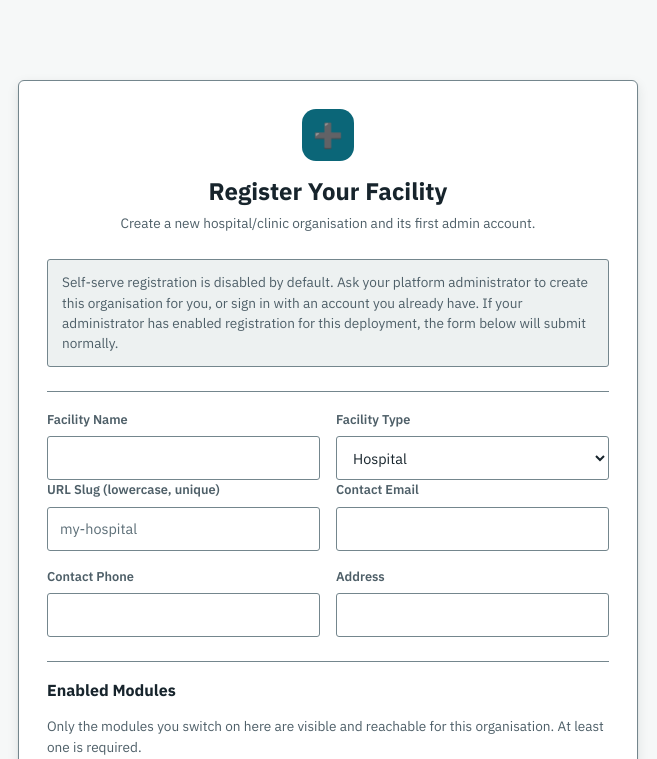
Test case: Onboarding page when self-serve registration is closed › shows an actionable message rather than a raw 401 when submitted anyway
The image size is (657, 759).
Type "Rogue Hospital" into the field labelled "Facility Name" at x=184, y=458, box top-left (47, 436), bottom-right (320, 480)
Type "rogue" into the field labelled "URL Slug (lowercase, unique)" at x=184, y=529, box top-left (47, 507), bottom-right (320, 551)
Type "c@x.test" into the field labelled "Contact Email" at x=472, y=529, box top-left (336, 507), bottom-right (609, 551)
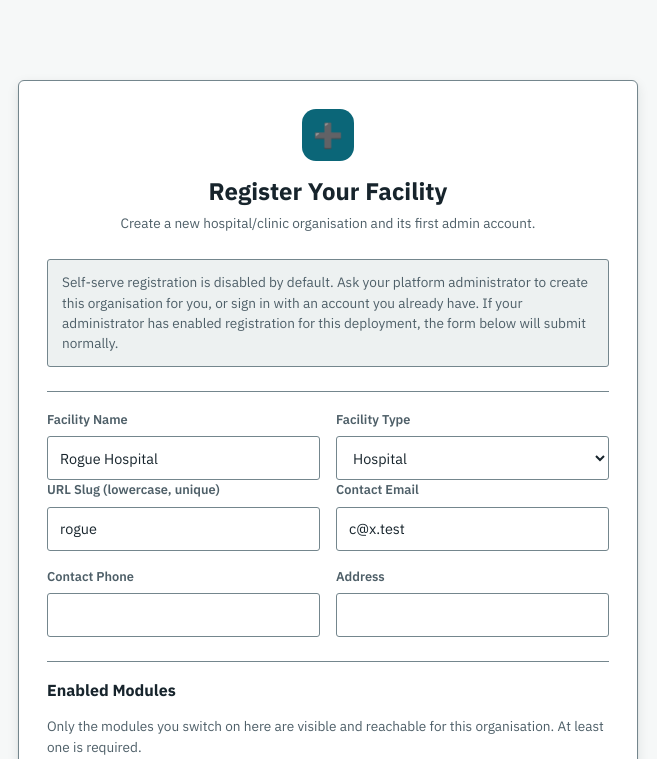
Type "+919800000000" into the field labelled "Contact Phone" at x=184, y=615, box top-left (47, 593), bottom-right (320, 637)
(page scrolled)
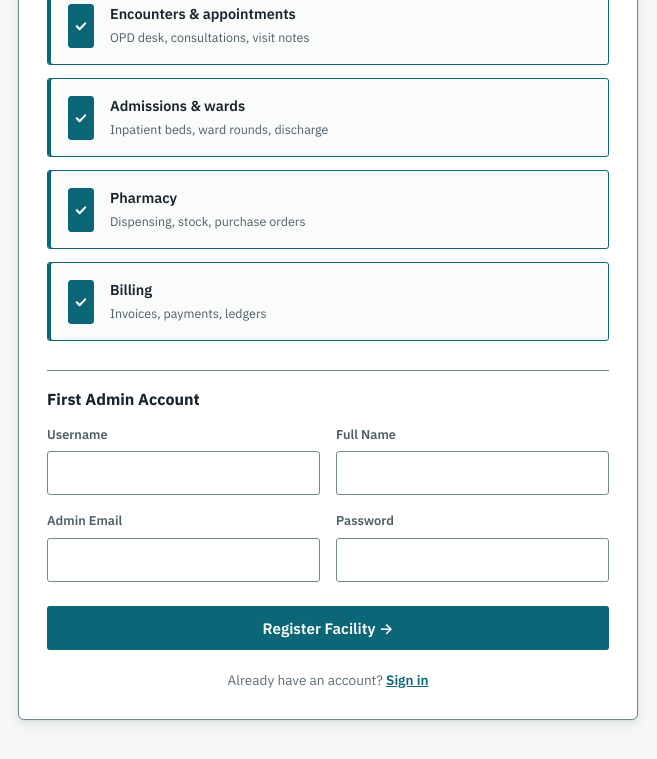
Type "rogue.admin" into the field labelled "Username" at x=184, y=473, box top-left (47, 451), bottom-right (320, 495)
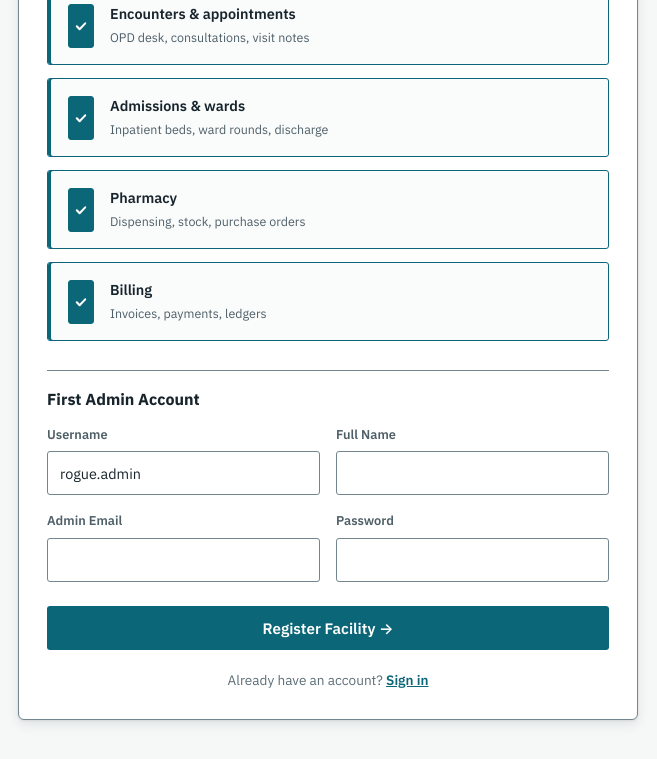
Type "Sup3rSecret!pass" into the password field labelled "Password" at x=472, y=560, box top-left (336, 538), bottom-right (609, 582)
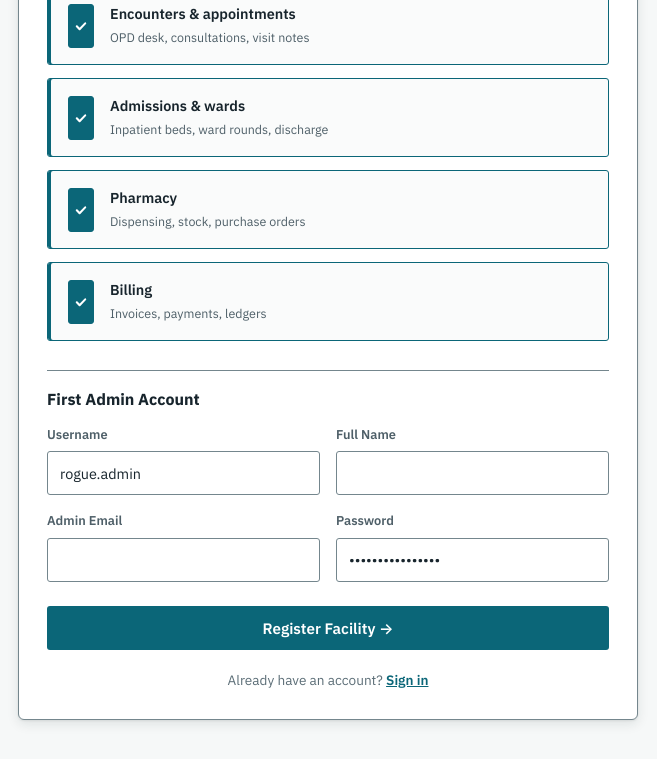
Type "a@x.test" into the field labelled "Admin Email" at x=184, y=560, box top-left (47, 538), bottom-right (320, 582)
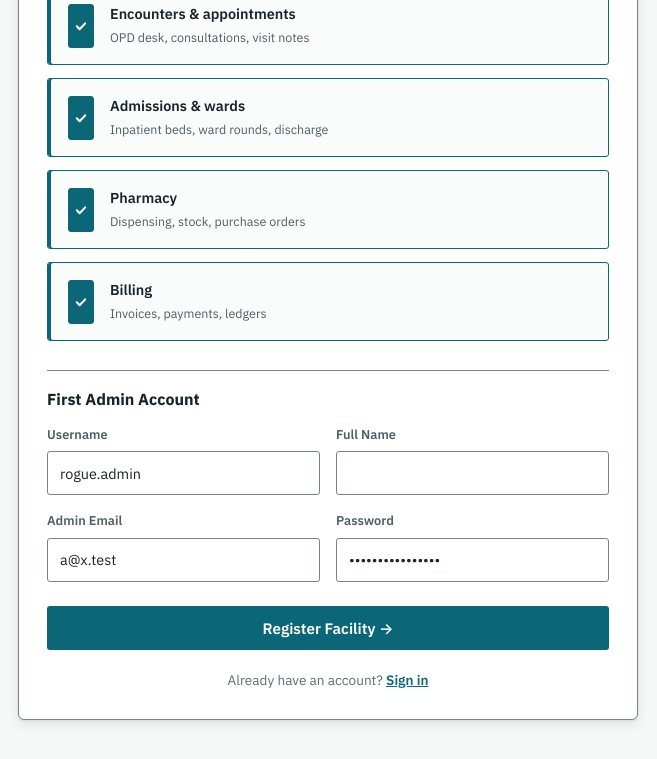
Click the button "Register Facility →" at x=328, y=628, box top-left (47, 606), bottom-right (609, 650)
(page scrolled)
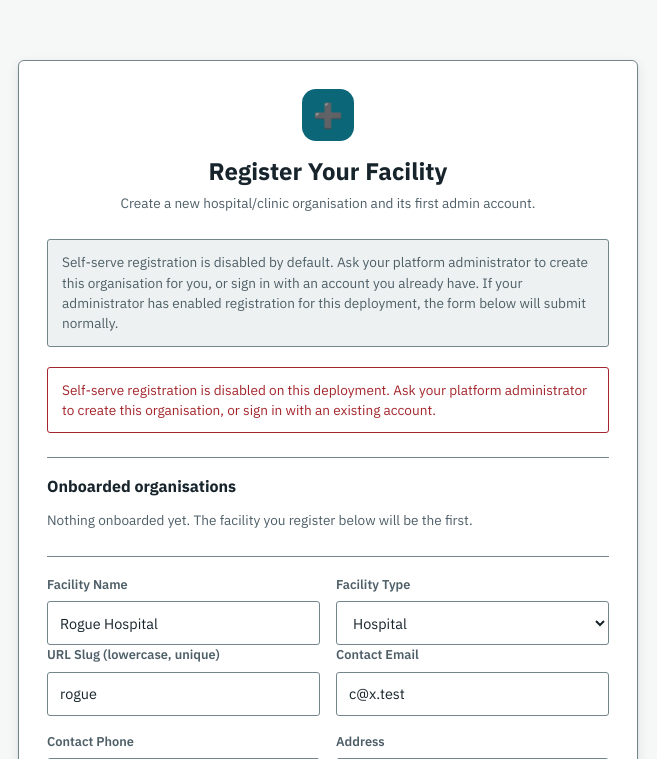
Now the 2nd message is shown, box top-left (47, 367), bottom-right (609, 434)
Now the 2nd message shows "Self-serve registration is disabled", box top-left (62, 381), bottom-right (587, 419)
Now the 2nd message shows "platform administrator", box top-left (62, 381), bottom-right (587, 419)
